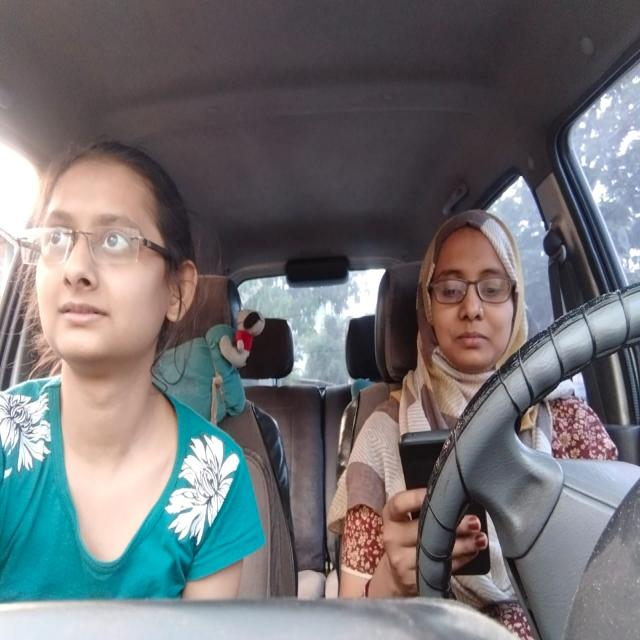mobile: (394, 423, 495, 577)
person: (30, 156, 197, 367), (424, 210, 525, 369)
